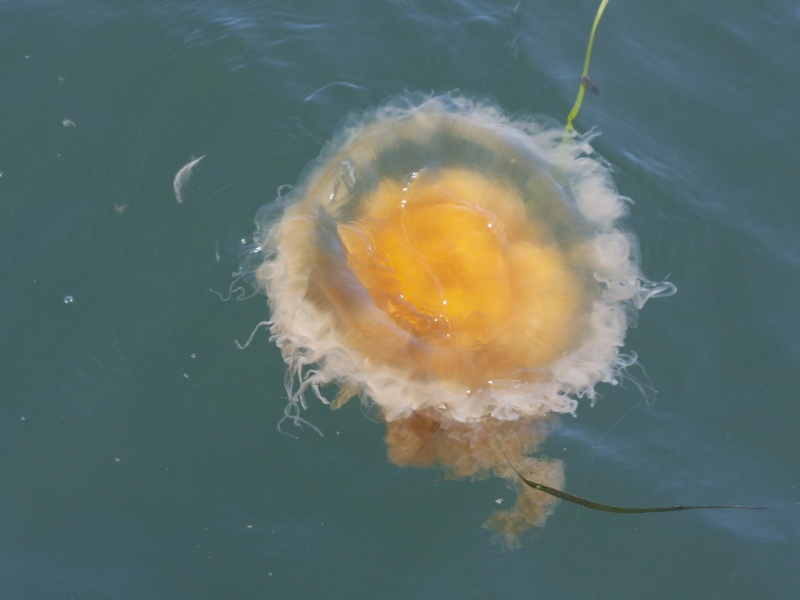Jellyfish: (209, 0, 770, 550)
